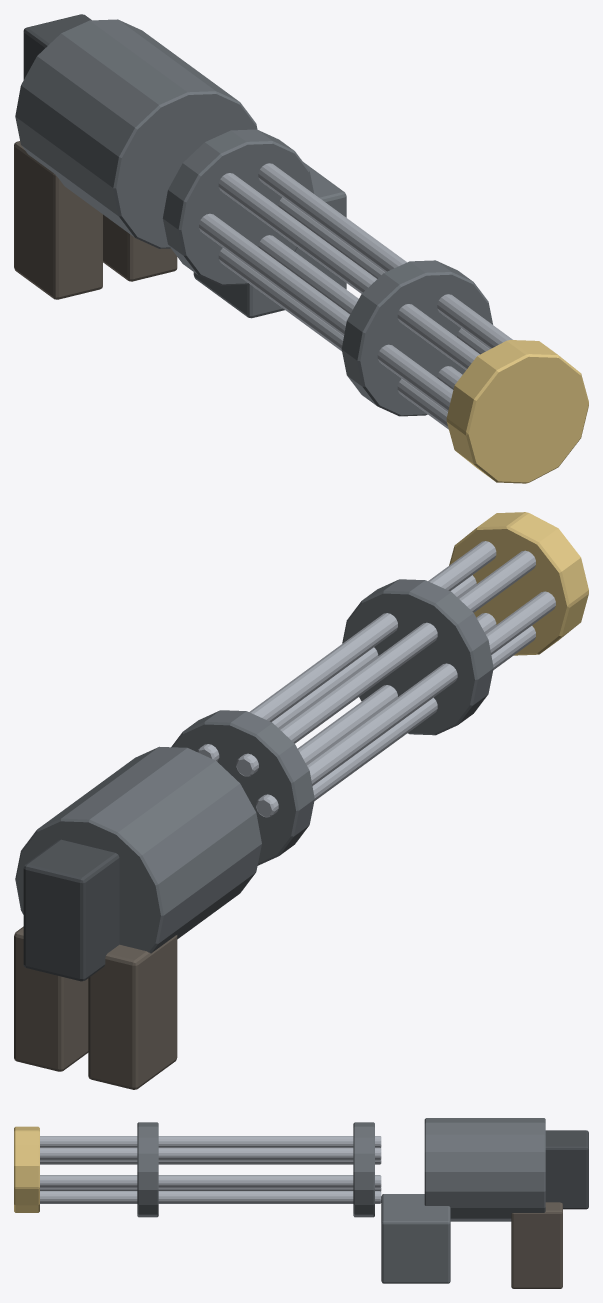
File: minigun.glb
The picture shows the model from 3 angles, top to bottom: view 1: azimuth 30°, elevation 25°; view 2: azimuth 150°, elevation 25°; view 3: azimuth 270°, elevation 25°; orthographic projection. The views are drawn at different scales.
Parts seen in each view (by area): view 1: Housing, Flash, ClampF, ClampR, GripL, Barrel_2, Barrel_3, Barrel_1, Barrel_4, AmmoFeed, GripR, Barrel_5 (+2 smaller); view 2: Housing, Motor, GripL, ClampR, Flash, ClampF, GripR, Barrel_2, Barrel_3, Barrel_1, Barrel_4, Barrel_5 (+1 smaller); view 3: Housing, AmmoFeed, Barrel_1, GripR, Barrel_0, Barrel_5, Barrel_2, Motor, Flash, ClampR, ClampF, Barrel_3 (+1 smaller).
Part boxes in pixels (x1,y1,x2,y2): Housing: (15,19,257,248); Flash: (446,340,588,483); ClampF: (162,129,314,285); ClampR: (341,260,492,416); GripL: (14,141,102,299); Barrel_2: (218,173,479,369); Barrel_3: (199,213,453,412); Barrel_1: (258,163,512,348); Barrel_4: (218,248,448,429); AmmoFeed: (193,162,346,318); GripR: (103,214,177,281); Barrel_5: (258,235,462,389); Housing: (15,746,261,953); Motor: (23,839,119,981); GripL: (88,935,177,1089); ClampR: (342,579,493,735); Flash: (449,512,588,655); ClampF: (171,710,314,865); GripR: (14,926,88,1071); Barrel_2: (236,550,535,776); Barrel_3: (256,591,555,817); Barrel_1: (197,541,496,761); Barrel_4: (312,626,535,800); Barrel_5: (297,613,496,763); Housing: (424,1118,545,1221); AmmoFeed: (381,1194,450,1283); Barrel_1: (40,1147,381,1160); GripR: (511,1202,562,1288); Barrel_0: (40,1175,381,1187); Barrel_5: (40,1191,381,1203); Barrel_2: (40,1136,381,1147); Motor: (545,1130,588,1209); Flash: (14,1126,39,1212); ClampR: (137,1122,158,1217); ClampF: (353,1122,374,1217); Barrel_3: (40,1159,381,1164).
Bounding box in the file's own units: 0.16 × 0.19 × 0.665.
